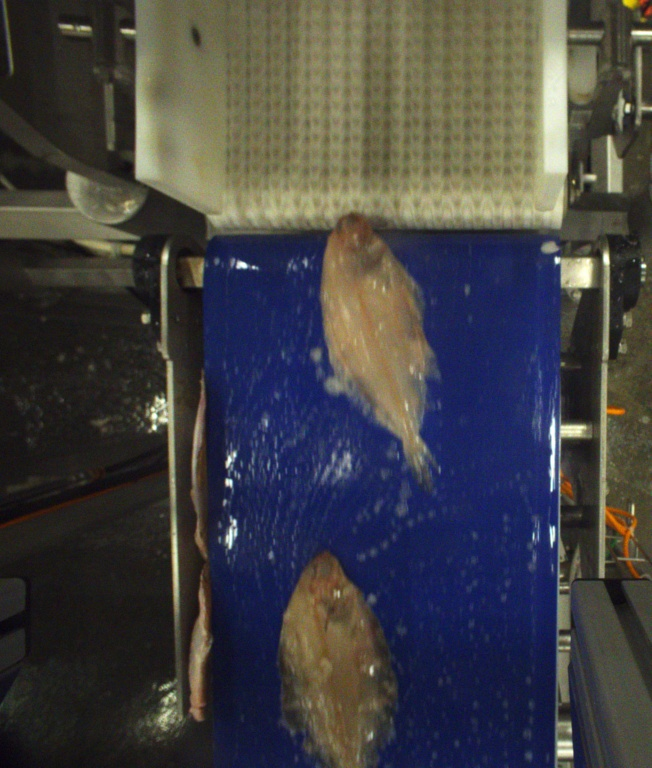WIT: (277, 551, 399, 768)
